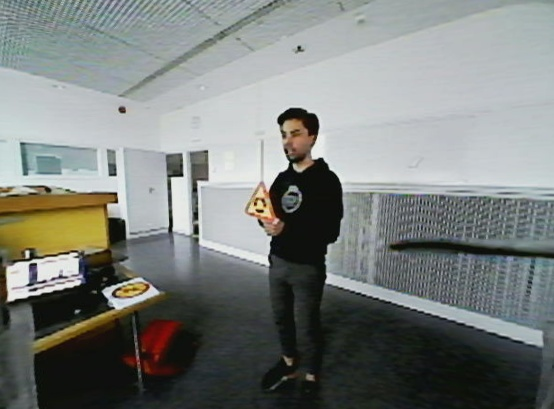roundabout_warning: (240, 178, 284, 228)
